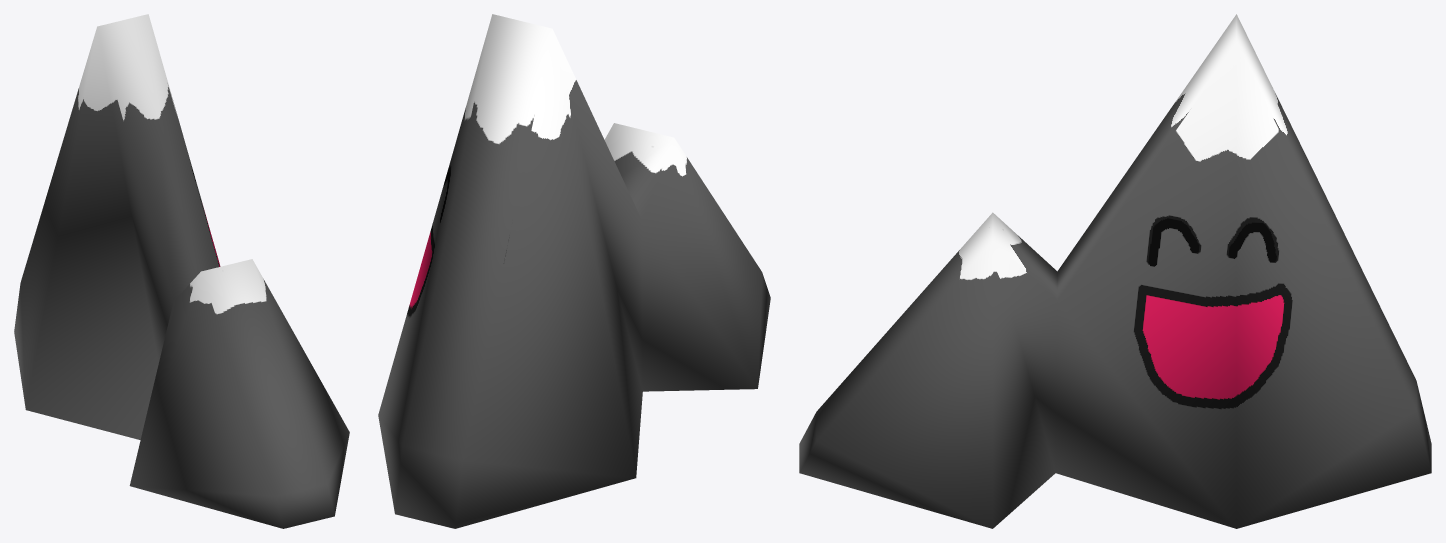
File: HappyMountain.fbx
3 renders of one model, left to right at view 1: azimuth 30°, elevation 25°; view 2: azimuth 150°, elevation 25°; view 3: azimuth 270°, elevation 25°, orthographic. The views are drawn at different scales.
Parts seen in each view (by area): view 1: Cube; view 2: Cube; view 3: Cube.
Boxes of the visible parts, left/top/right/bottom form: Cube: left=14, top=14, right=349, bottom=528; Cube: left=378, top=14, right=770, bottom=528; Cube: left=799, top=14, right=1431, bottom=528.
Bounding box in the file's own units: 8.57 × 13.62 × 18.15.
